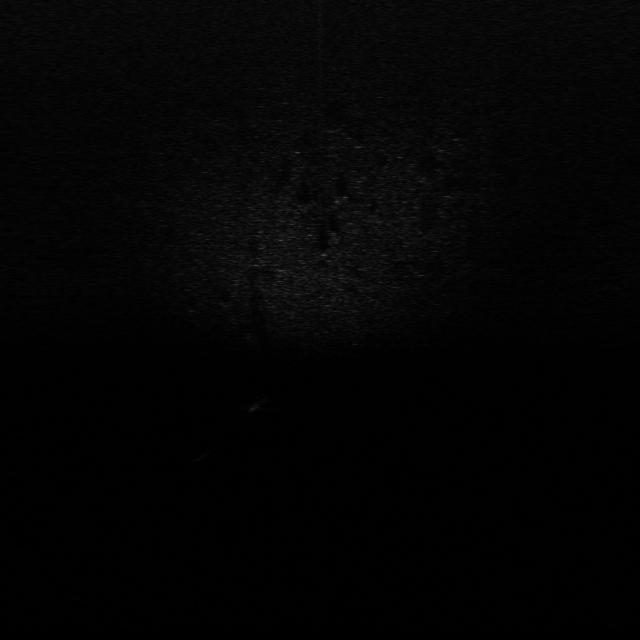human body: (240, 393, 270, 422)
